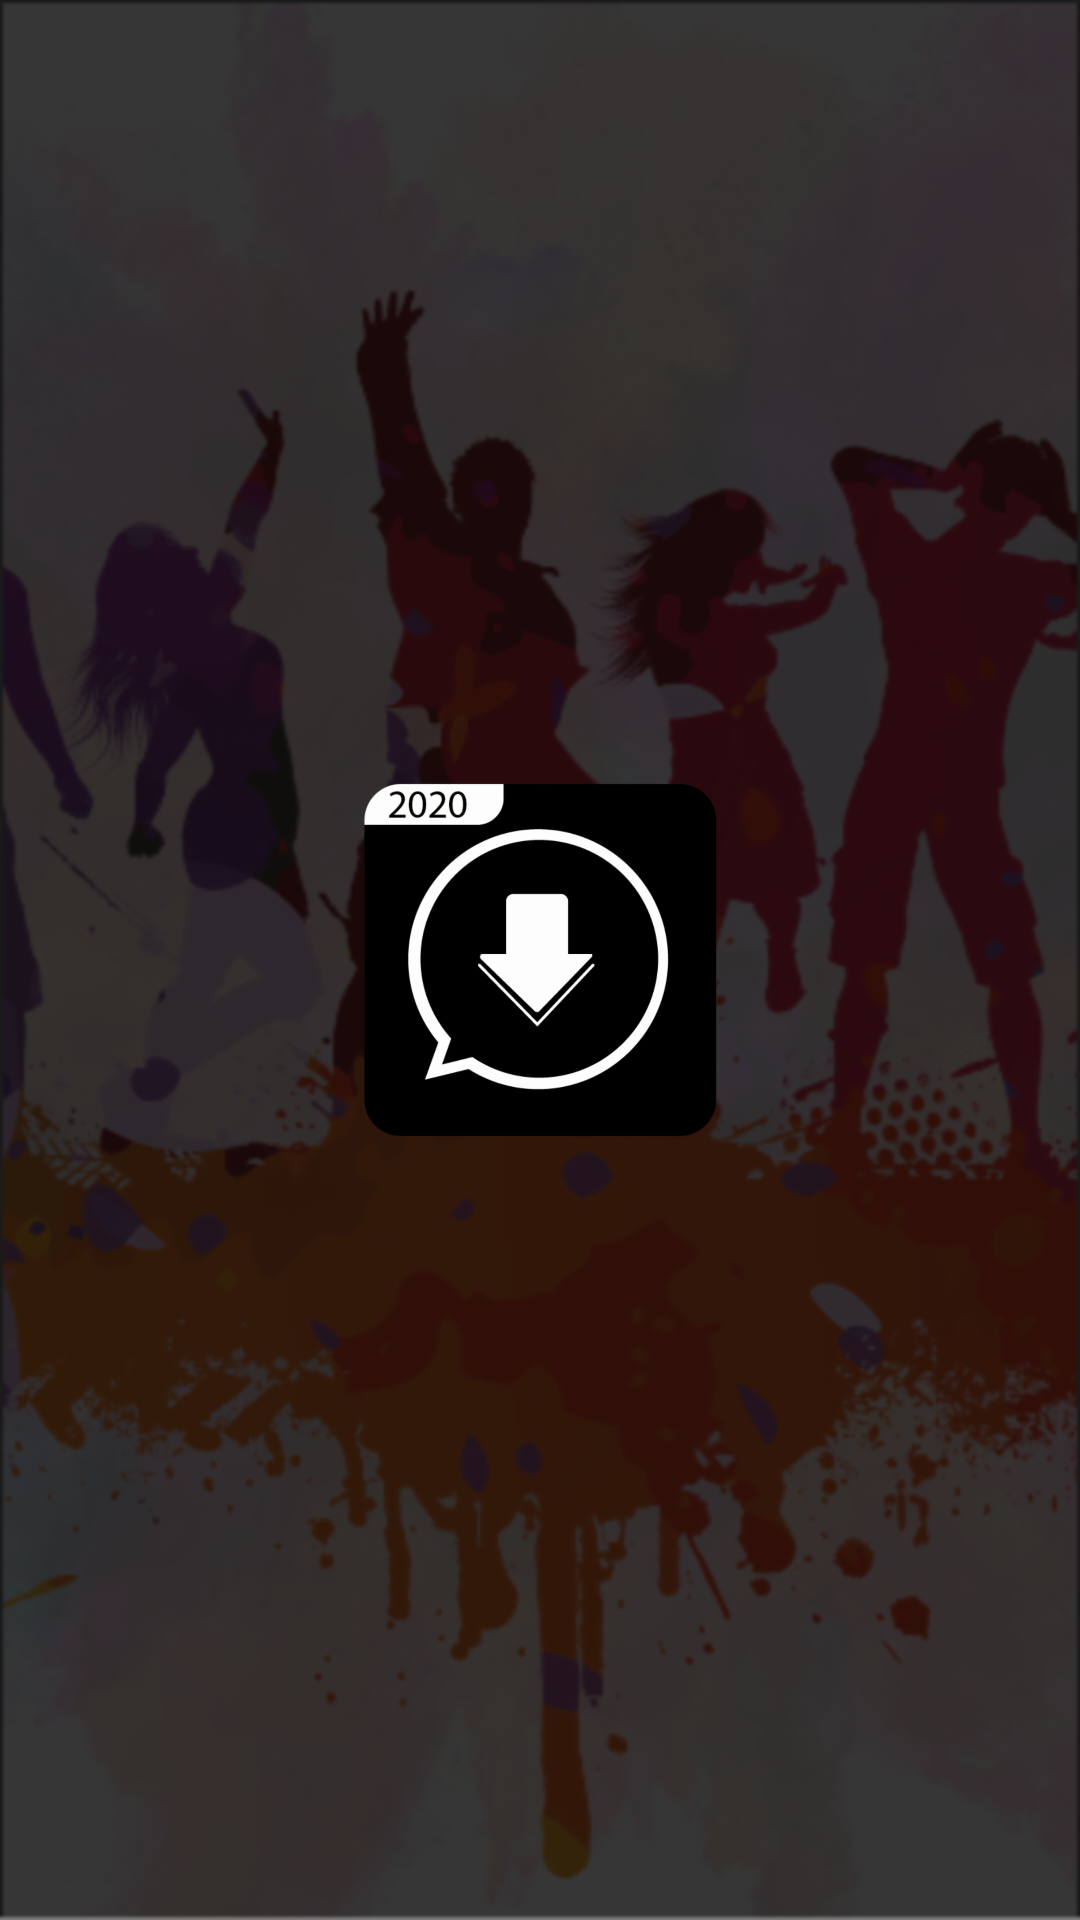

Icon click points for this 1080×1920 phone screenshot, format point (x, y):
statusdownloader: point (540, 960)
